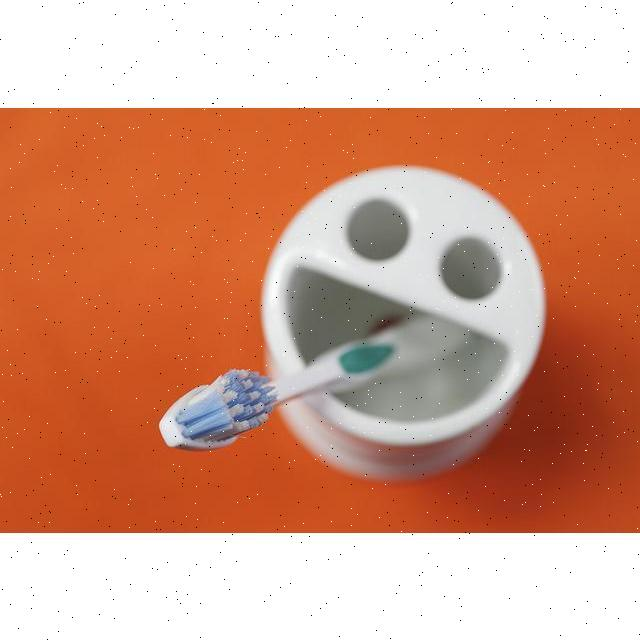toothbrush: (256, 166, 544, 484), (158, 314, 482, 452)
